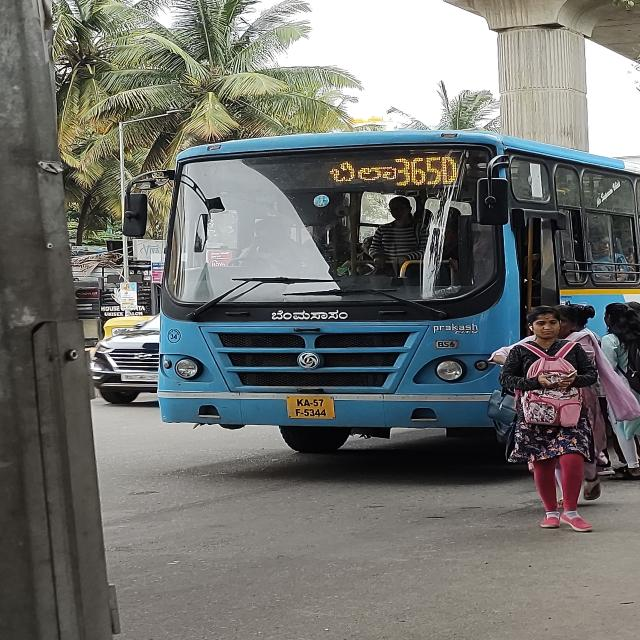bus: (125, 114, 640, 463)
display: (209, 153, 461, 188)
dnumber: (393, 156, 458, 186)
